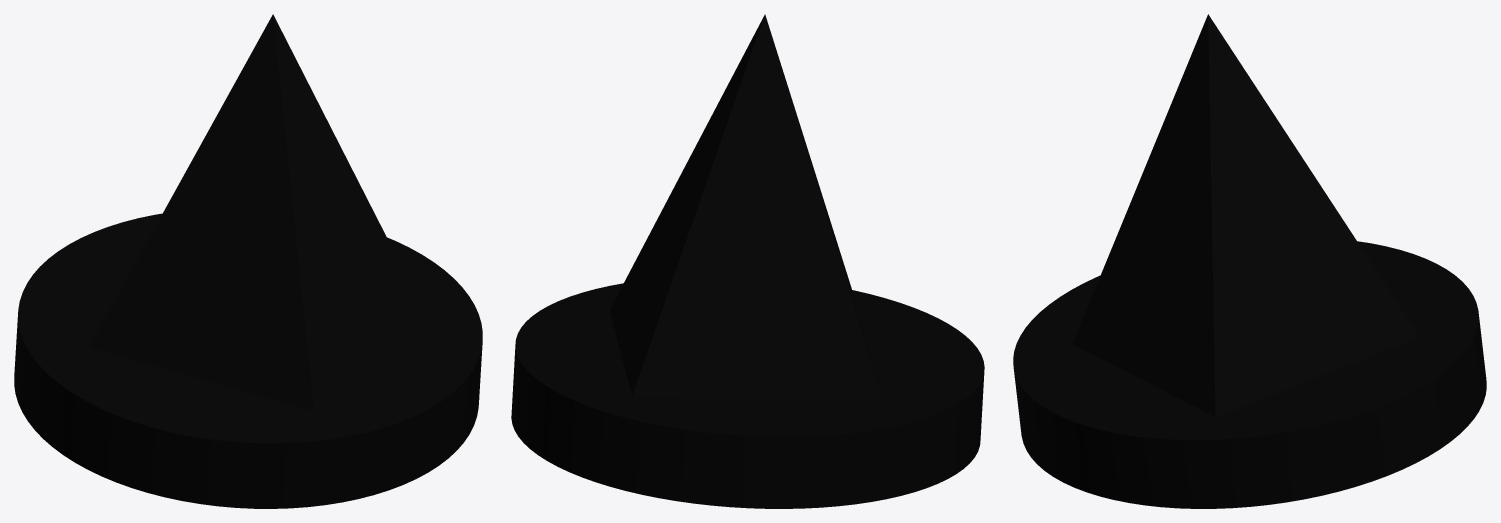
Rendered from umerpoint.fbx.
3 renders of one model, left to right at view 1: azimuth 30°, elevation 25°; view 2: azimuth 150°, elevation 25°; view 3: azimuth 270°, elevation 25°, orthographic.
Visible parts, largest first — view 1: node_id31 (×2); view 2: node_id31 (×2); view 3: node_id31 (×2).
Part boxes in pixels (x1,y1,x2,y2): node_id31 (×2): [14, 14, 482, 508]; node_id31 (×2): [511, 14, 984, 508]; node_id31 (×2): [1013, 14, 1486, 508].
Bounding box in the file's own units: 0.4477 × 0.4406 × 0.4529.
Materials: 2 (2 with a texture image).
